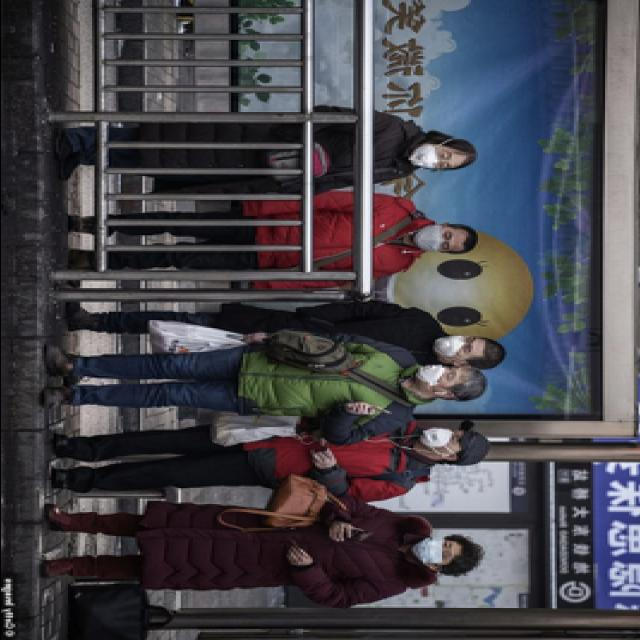mask: (412, 538, 456, 568), (408, 144, 456, 171), (412, 364, 460, 390), (412, 225, 458, 252), (434, 336, 479, 362), (420, 427, 462, 453)
